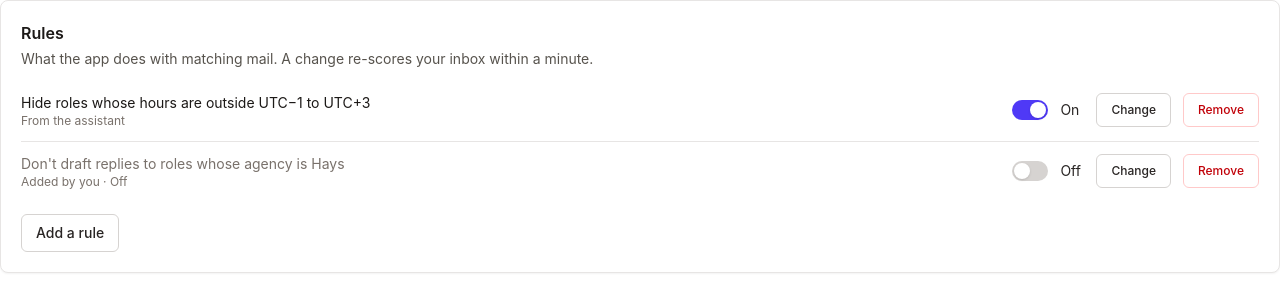
Test case: RulesList › lets an editor remove a rule
Click the button named "Remove the rule \"Hide roles whose hours are outside UTC−1 to UTC+3\"".
click(1221, 110)  # box [1183,93,1259,127]
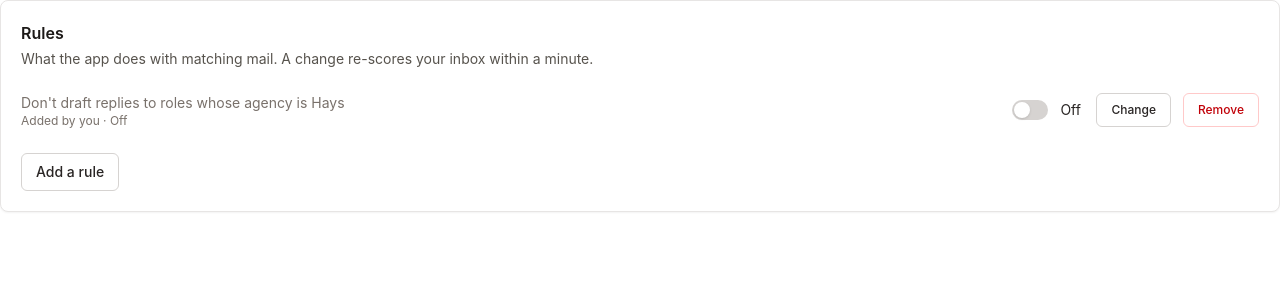
Check: the number of list items is 1, box [21,81,1259,141]
